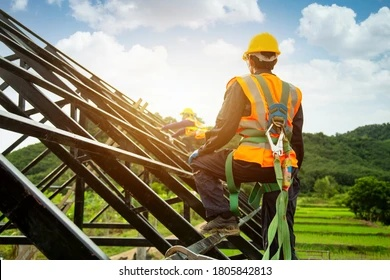Helmet: (242, 33, 280, 59)
Person: (203, 28, 300, 257)
Safety_Harness: (226, 72, 295, 259)
